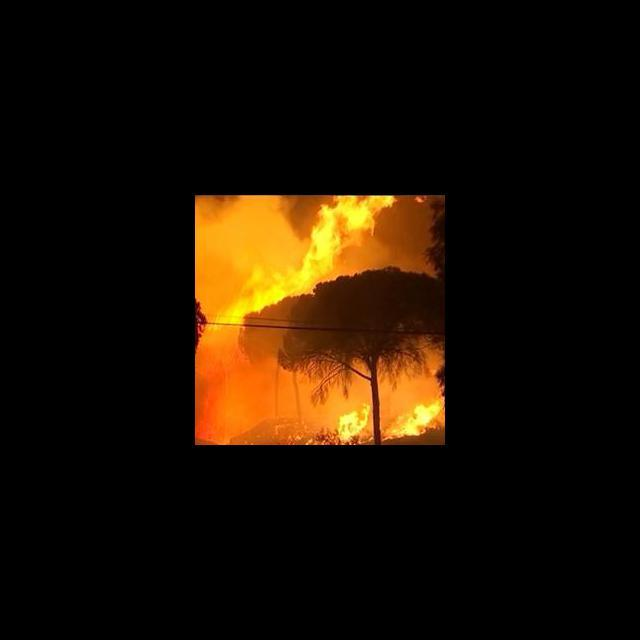Fire: (196, 195, 428, 335), (383, 396, 445, 444), (332, 399, 371, 444)
